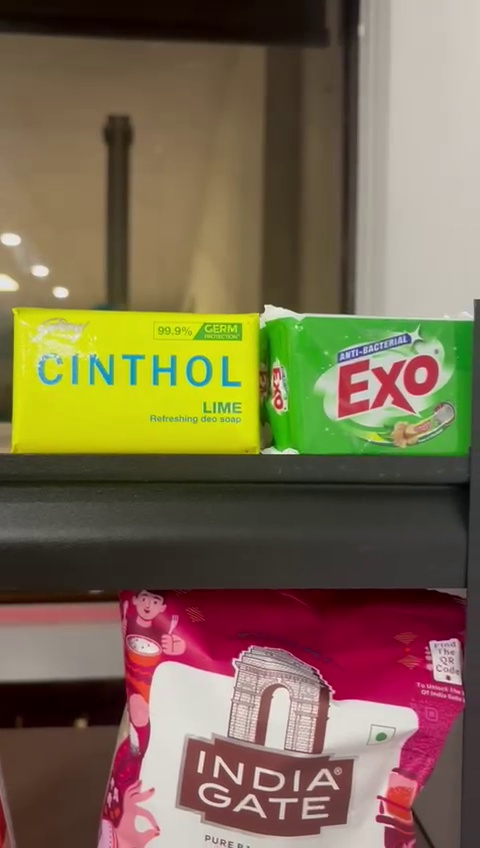Cinthol: (15, 305, 269, 452)
Exo Soap: (269, 316, 480, 453)
